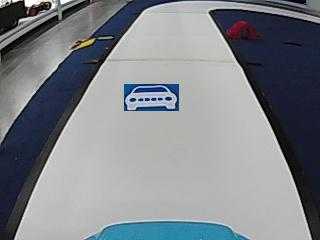bridge: (227, 22, 260, 38)
